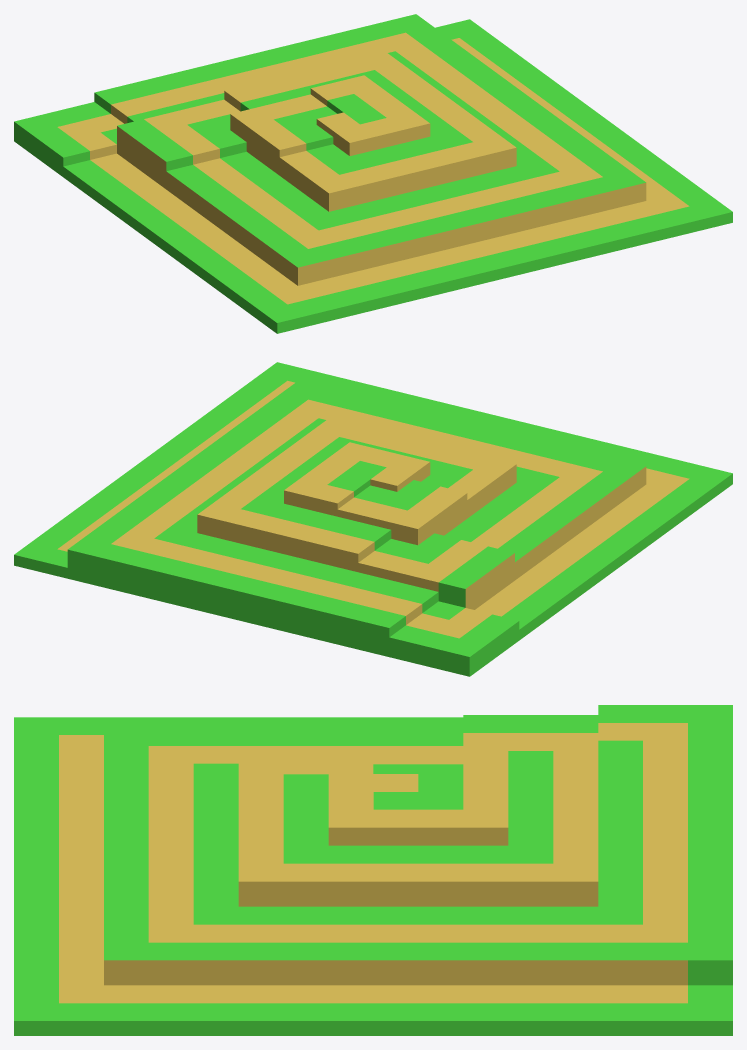
The model's file is simpmap (2).fbx.
3 renders of one model, top to bottom at view 1: azimuth 30°, elevation 25°; view 2: azimuth 150°, elevation 25°; view 3: azimuth 270°, elevation 25°, orthographic. The views are drawn at different scales.
Parts seen in each view (by area): view 1: Cube; view 2: Cube; view 3: Cube.
Boxes of the visible parts, x1,y1,x2,y2 form: Cube: (14,14,732,333); Cube: (14,362,732,676); Cube: (14,705,732,1035).
Bounding box in the file's own units: 1988 × 254 × 1988.
